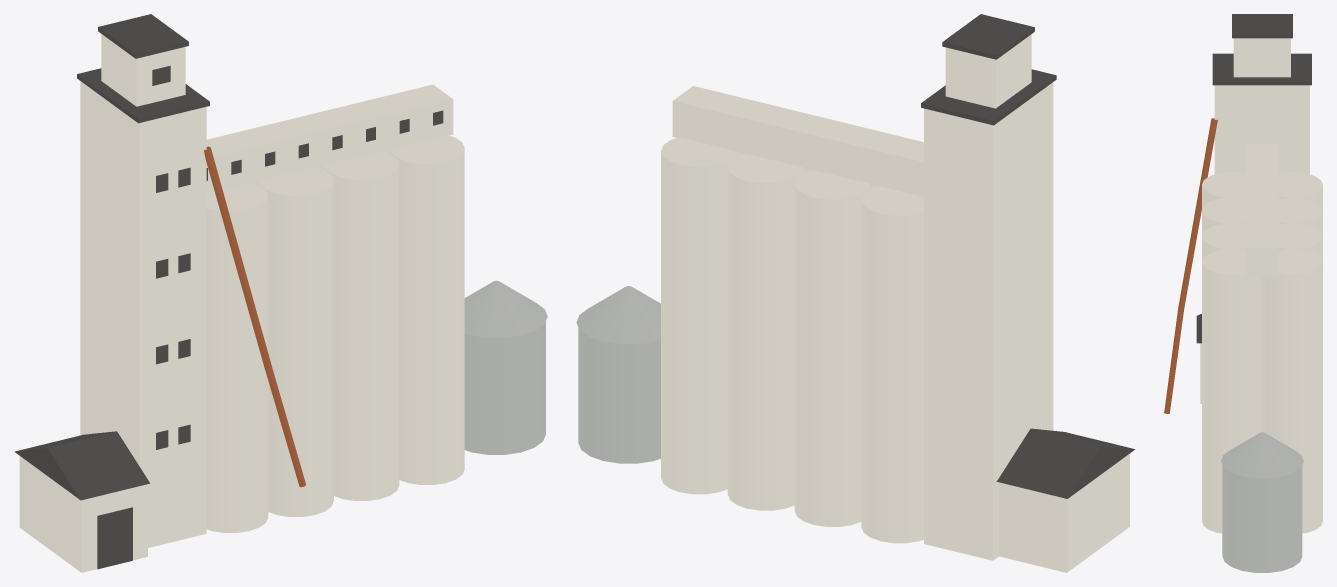
File: Blender_GrainElevator_1.glb
3 renders of one model, left to right at view 1: azimuth 30°, elevation 25°; view 2: azimuth 150°, elevation 25°; view 3: azimuth 270°, elevation 25°, orthographic. The views are drawn at different scales.
Parts seen in each view (by area): view 1: Blender_GrainElevator_1; view 2: Blender_GrainElevator_1; view 3: Blender_GrainElevator_1.
Part boxes in pixels (left/top/right/bottom): Blender_GrainElevator_1: left=14, top=14, right=547, bottom=572; Blender_GrainElevator_1: left=576, top=14, right=1135, bottom=572; Blender_GrainElevator_1: left=1164, top=14, right=1322, bottom=572.
Bounding box in the file's own units: 48.88 × 45.4 × 16.63.
